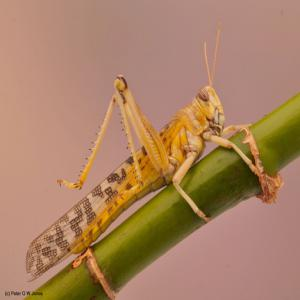locust: (28, 54, 234, 273)
